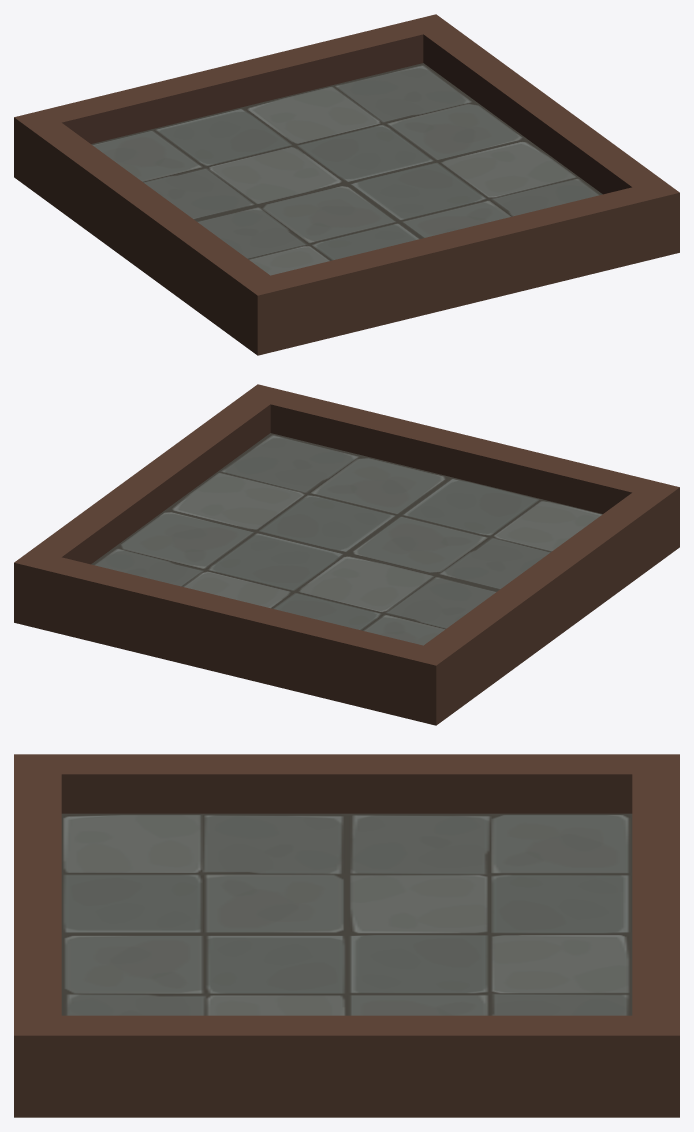
Rendered from RoofTop_E02.fbx.
3 views of the same model, one above another, from view 1: azimuth 30°, elevation 25°; view 2: azimuth 150°, elevation 25°; view 3: azimuth 270°, elevation 25° (orthographic). The views are drawn at different scales.
Parts seen in each view (by area): view 1: RoofTop_E02; view 2: RoofTop_E02; view 3: RoofTop_E02.
Part boxes in pixels (box(x1,y1,x2,y2)): RoofTop_E02: box(14, 14, 679, 355); RoofTop_E02: box(14, 384, 679, 725); RoofTop_E02: box(14, 754, 679, 1117).
Bounding box in the file's own units: 607 × 82.56 × 607.
